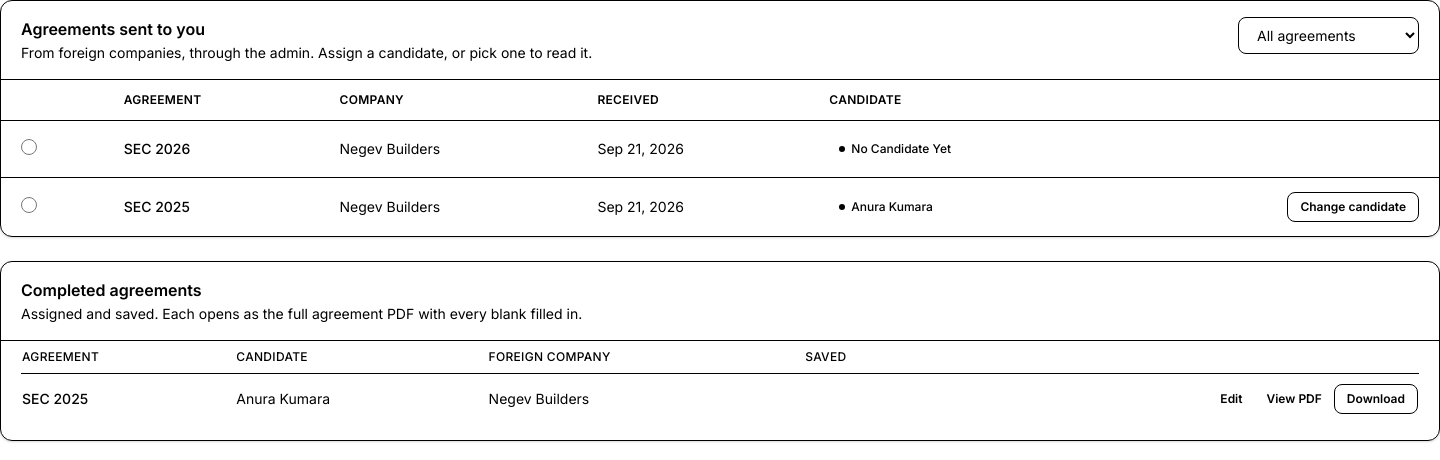
Test: a local agency assigning a candidate to an agreement it was sent › filters the table down to the agreements still without a candidate
Select "Candidate assigned" in the dropdown named "Show" at (1328, 36), box [1238,17,1419,54]
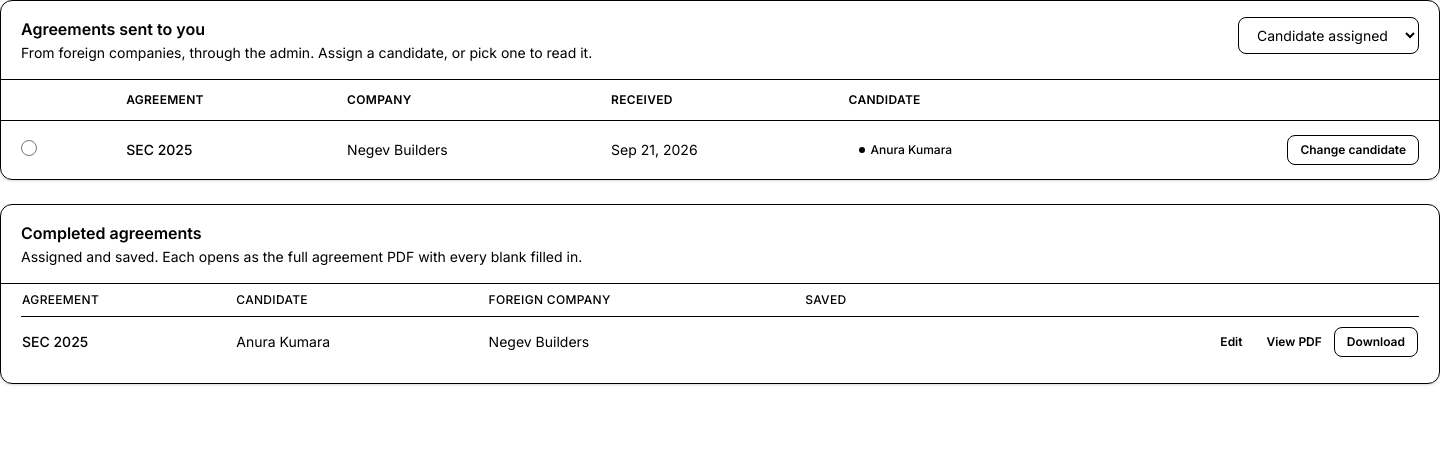
Expected: the 2nd row shows "SEC 2025", [126,141,192,158]
Select "No candidate yet" in the dropdown named "Show" at (1328, 36), box [1238,17,1419,54]
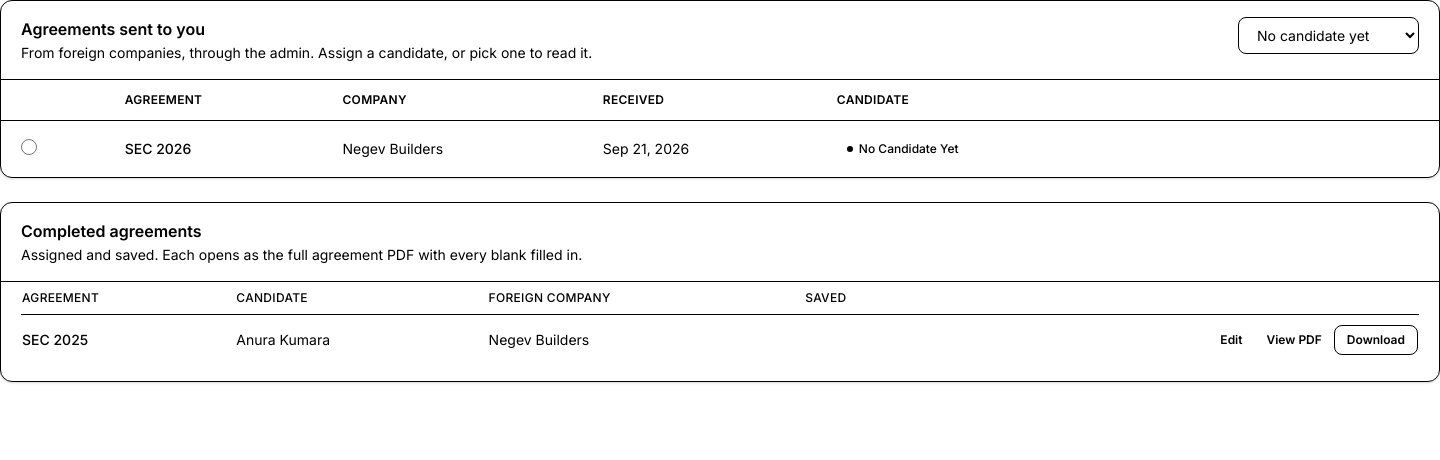
Now the row that starts with "SEC 2026" is shown, box [125,140,191,157]
